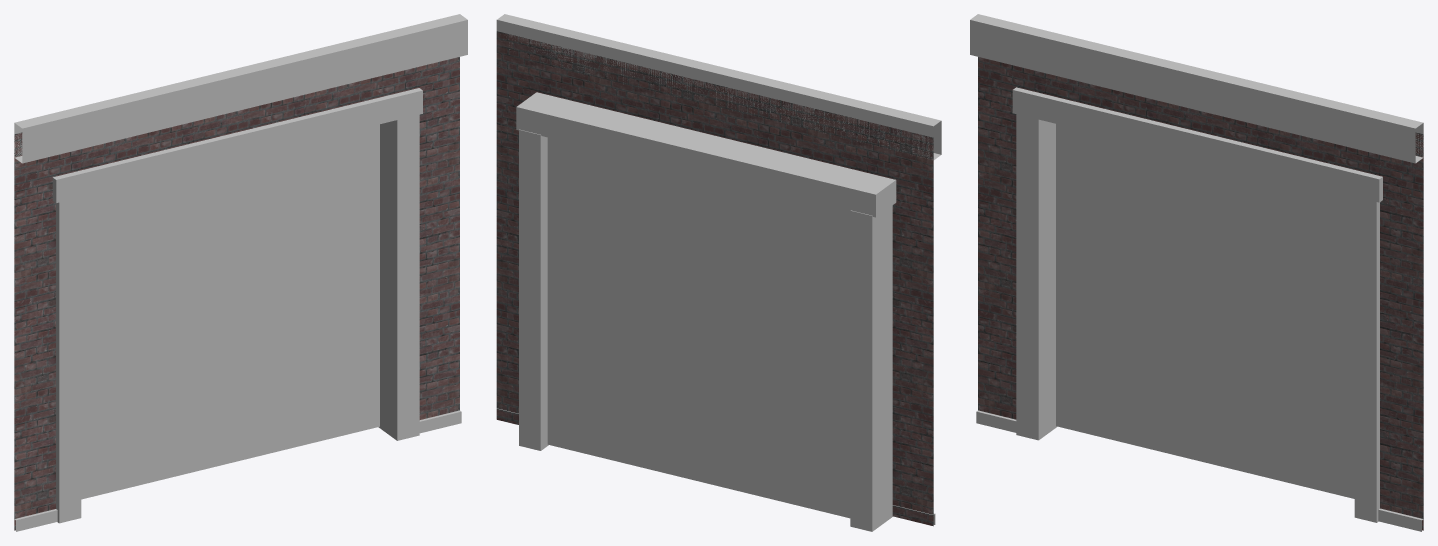
Rendered from Wall_A_Brick_DoorRoll_A_4x.FBX.
3 views of the same model, side by side, from view 1: azimuth 30°, elevation 25°; view 2: azimuth 150°, elevation 25°; view 3: azimuth 330°, elevation 25° (orthographic). The views are drawn at different scales.
Visible parts, largest first — view 1: Wall_A_Brick_DoorRoll_A_4x; view 2: Wall_A_Brick_DoorRoll_A_4x; view 3: Wall_A_Brick_DoorRoll_A_4x.
Boxes of the visible parts, x1,y1,x2,y2 form: Wall_A_Brick_DoorRoll_A_4x: [14, 14, 467, 531]; Wall_A_Brick_DoorRoll_A_4x: [496, 14, 941, 531]; Wall_A_Brick_DoorRoll_A_4x: [970, 14, 1423, 531].
Size of the model in its own units: 400 by 350 by 45.14.
